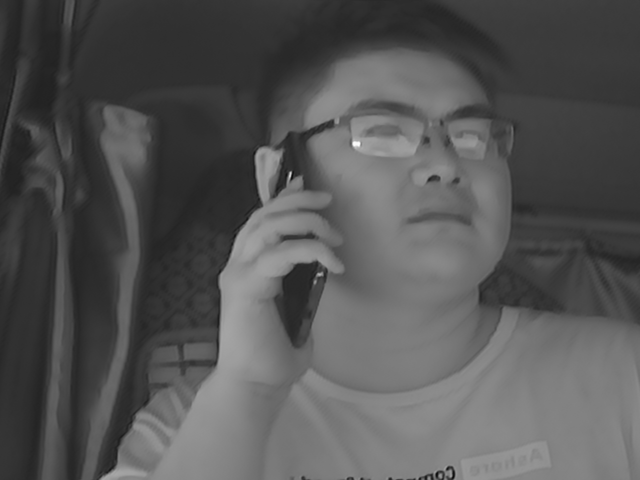hand: (202, 188, 335, 381)
